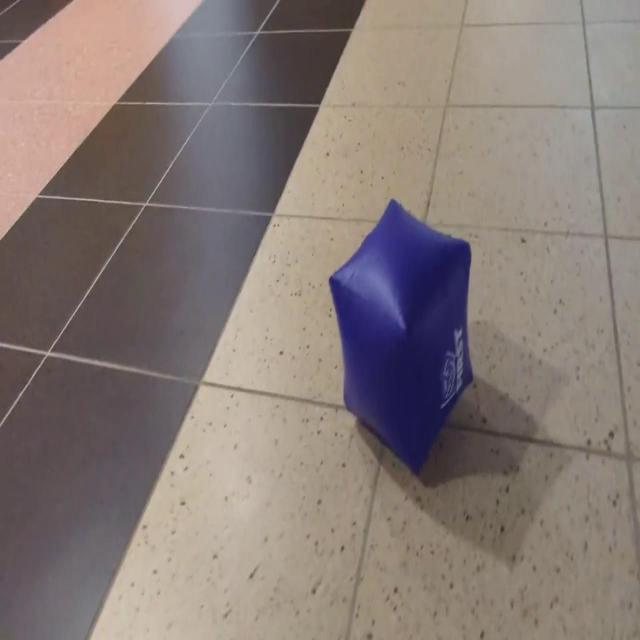frc_cube: (332, 194, 474, 479)
